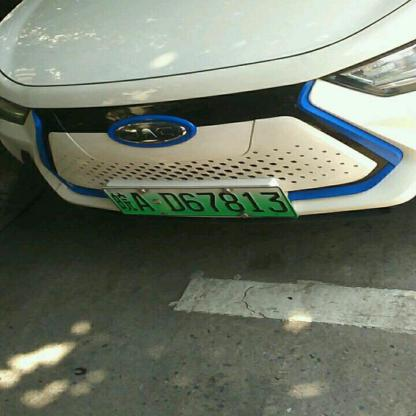lp: (102, 188, 296, 215)
